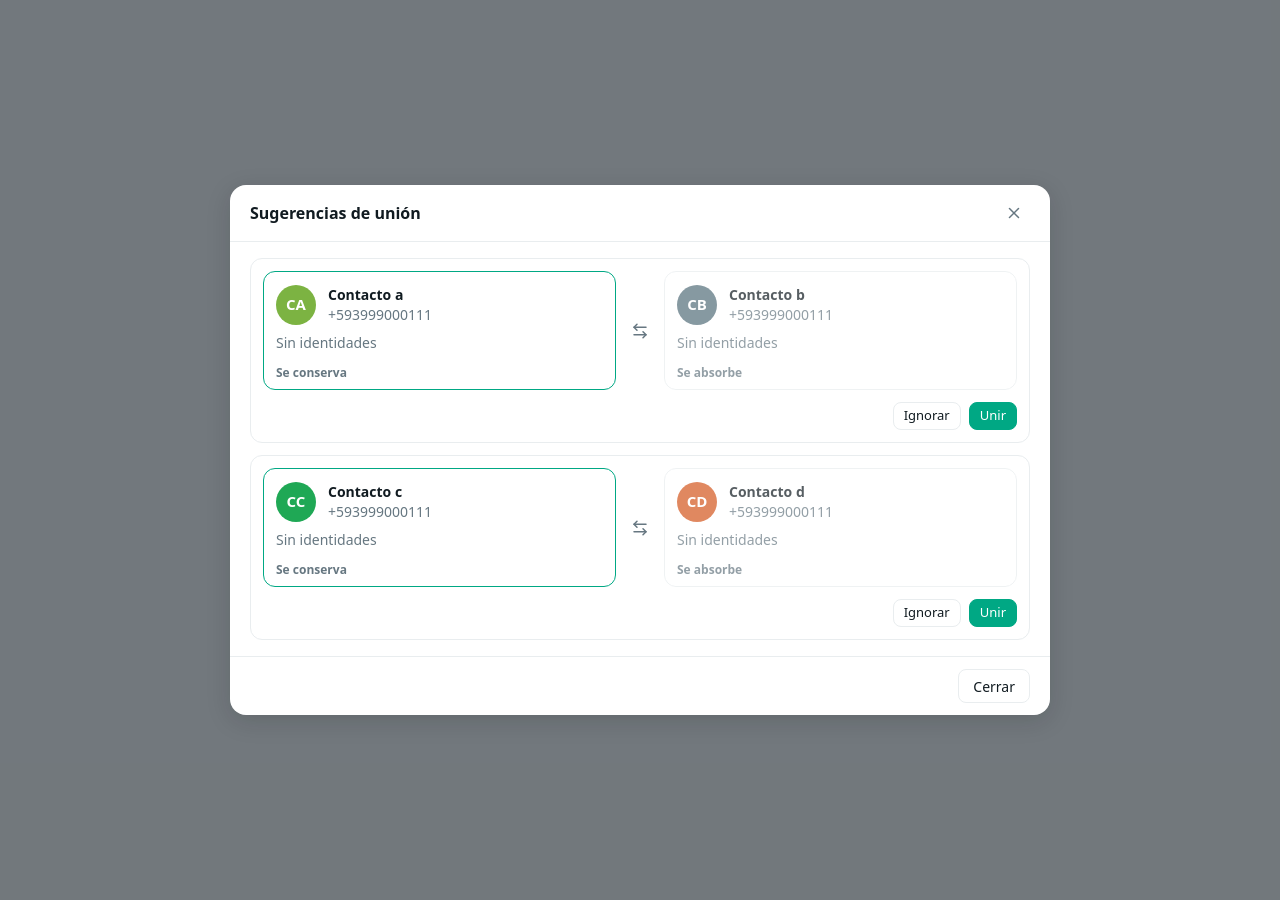
Test case: SuggestMergesModal › muestra los pares lado a lado y «Unir» conserva el primero
The image size is (1280, 900).
Expected: the number of list items with test id "merge-pair" is 2, [250,258,1030,443]; [250,455,1030,640]
Expected: the text "Contacto a" is shown, [328,285,403,304]
Click the button "Unir" below "Contacto b".
click(993, 416)  # box [969,402,1017,430]
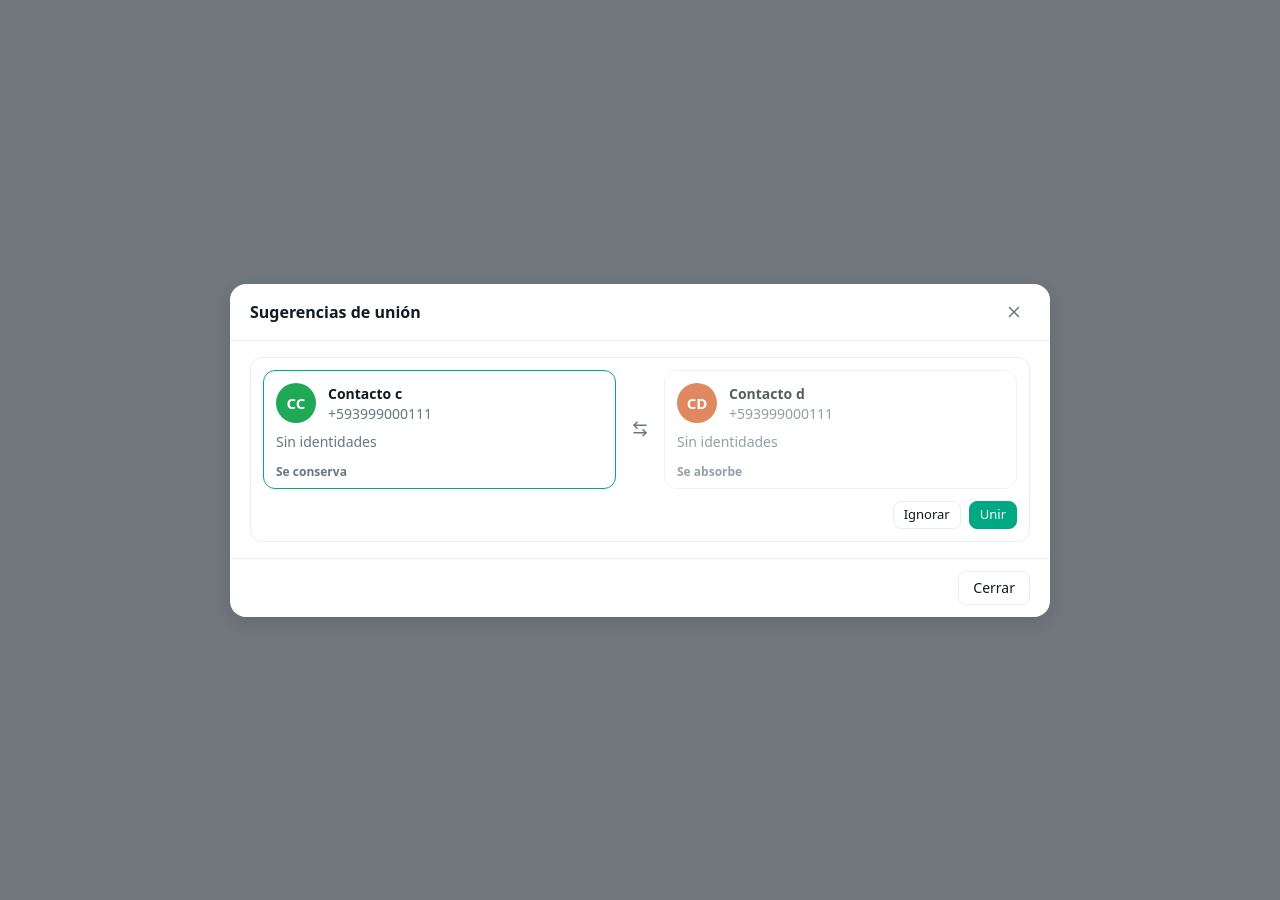
Expected: the number of list items with test id "merge-pair" is 1, [250,356,1030,542]
